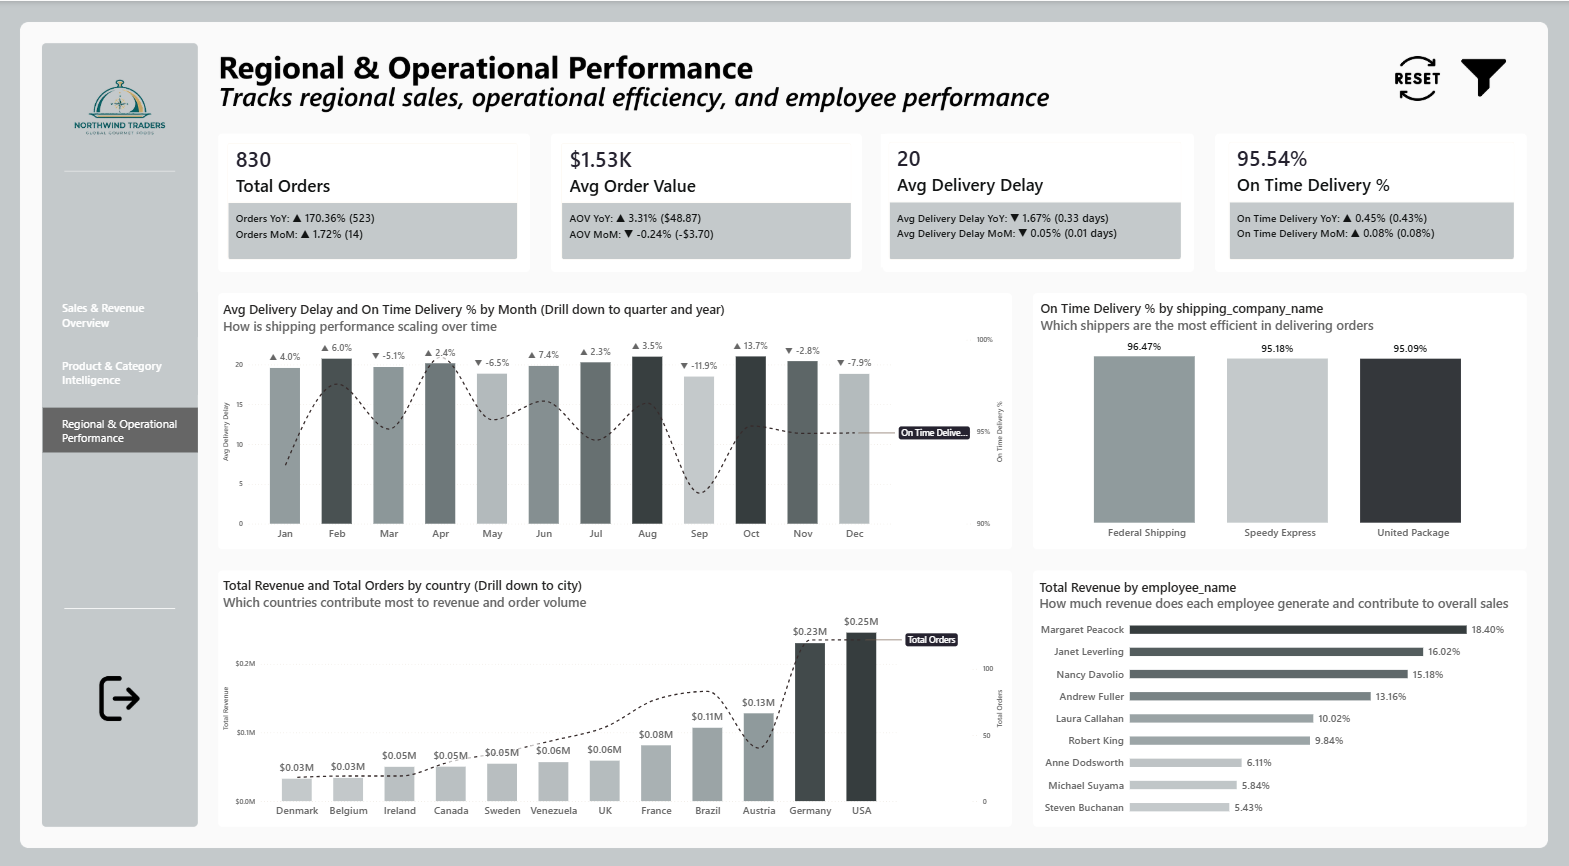

The page's visual inventory and layout, read from the dashboard file:
{"tool":"powerbi","page":{"name":"Regional & Operational Performance","canvas":[2449,1355],"ordinal":2},"visuals":[{"type":"lineClusteredColumnComboChart","fields":{"Category":["shippers.company_name"],"Y":["Calculated Measures.On Time Delivery %"]},"box":[1614.6,454,767.5,400.1],"z":0},{"type":"lineClusteredColumnComboChart","title":"Avg Delivery Delay and On Time Delivery % by Month (Drill down to quarter and year)","fields":{"Category":["date.Short Month","date.Quarter","date.Year"],"Y":["Calculated Measures.Avg Delivery Delay"],"Y2":["Calculated Measures.On Time Delivery %"]},"box":[339.3,456.3,1240.3,399.8],"z":1000},{"type":"clusteredBarChart","fields":{"Category":["employee.employee_name"],"Y":["Calculated Measures.Total Revenue"]},"box":[1613,888.8,771.5,399.3],"z":2000},{"type":"lineClusteredColumnComboChart","title":"Total Revenue and Total Orders by country (Drill down to city)","fields":{"Category":["customer.country","customer.city"],"Y2":["Calculated Measures.Total Orders"],"Y":["Calculated Measures.Total Revenue"]},"box":[338.4,886.6,1240.7,401.6],"z":3000},{"type":"cardVisual","fields":{"Data":["Calculated Measures.Total Orders"]},"box":[338.4,205.3,487.3,216.6],"z":4000},{"type":"cardVisual","fields":{"Data":["Calculated Measures.Avg Order Value"]},"box":[859.5,205.3,487.3,216.6],"z":5000},{"type":"cardVisual","fields":{"Data":["Calculated Measures.Avg Delivery Delay"]},"box":[1371.6,203,491.8,218.8],"z":6000},{"type":"cardVisual","fields":{"Data":["Calculated Measures.On Time Delivery %"]},"box":[1901.7,203,480.5,218.8],"z":7000},{"type":"shape","box":[2262.8,74.9,100.6,84.2],"z":8000},{"type":"actionButton","title":"Slicer reset","box":[2162,74,100,84],"z":9000},{"type":"actionButton","title":"back button","box":[132,1046,100,84],"z":12000},{"type":"pageNavigator","box":[68,454,242,250],"z":12001}]}

Visuals, with their boxes in screenshot pixels (x1, y1, x2, y2), scaled from the page's 2449x1355 canvas onto the 1569x866 screenshot:
lineClusteredColumnComboChart - shippers.company_name x Calculated Measures.On Time Delivery %: bbox(1034, 290, 1526, 546)
"Avg Delivery Delay and On Time Delivery % by Month (Drill down to quarter and year)" lineClusteredColumnComboChart: bbox(217, 292, 1012, 547)
clusteredBarChart - employee.employee_name x Calculated Measures.Total Revenue: bbox(1033, 568, 1528, 823)
"Total Revenue and Total Orders by country (Drill down to city)" lineClusteredColumnComboChart: bbox(217, 567, 1012, 823)
cardVisual - Calculated Measures.Total Orders: bbox(217, 131, 529, 270)
cardVisual - Calculated Measures.Avg Order Value: bbox(551, 131, 863, 270)
cardVisual - Calculated Measures.Avg Delivery Delay: bbox(879, 130, 1194, 270)
cardVisual - Calculated Measures.On Time Delivery %: bbox(1218, 130, 1526, 270)
shape: bbox(1450, 48, 1514, 102)
"Slicer reset" actionButton: bbox(1385, 47, 1449, 101)
"back button" actionButton: bbox(85, 669, 149, 722)
pageNavigator: bbox(44, 290, 199, 450)
